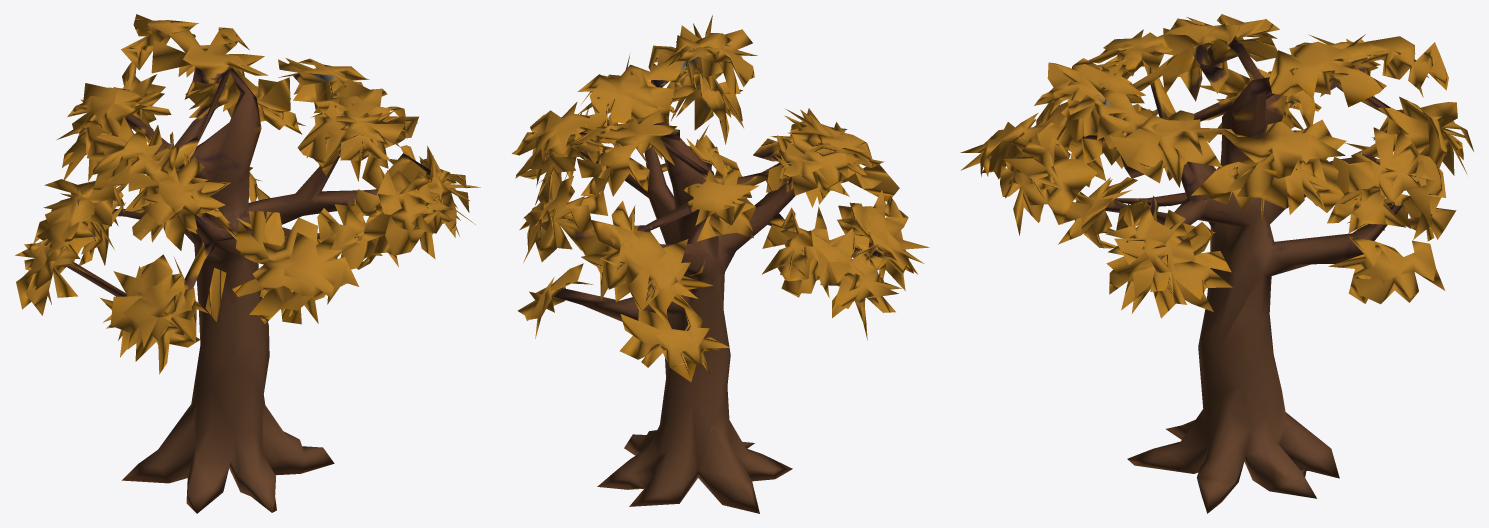
File: Tree_2.fbx
The picture shows the model from 3 angles, left to right: view 1: azimuth 30°, elevation 25°; view 2: azimuth 150°, elevation 25°; view 3: azimuth 270°, elevation 25°; orthographic projection. The views are drawn at different scales.
Visible parts, largest first — view 1: tripo_node_d7f84bc6; view 2: tripo_node_d7f84bc6; view 3: tripo_node_d7f84bc6.
Boxes of the visible parts, <box> form: tripo_node_d7f84bc6: <box>15,14,480,513</box>; tripo_node_d7f84bc6: <box>512,15,929,513</box>; tripo_node_d7f84bc6: <box>960,14,1473,513</box>.
Size of the model in its own units: 0.9845 by 0.9069 by 0.9667.
